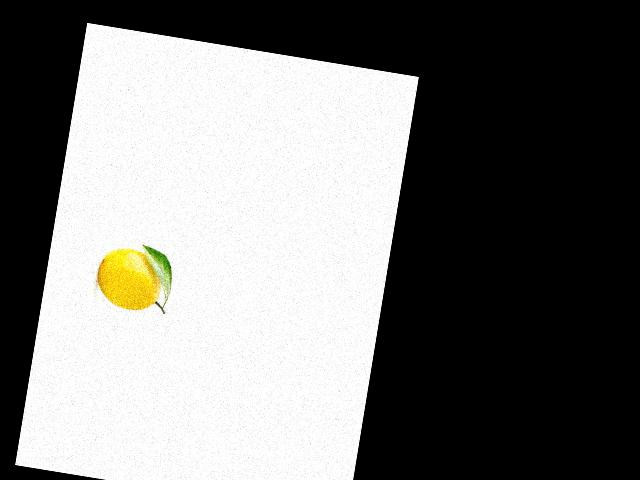lemon: (87, 240, 172, 319)
